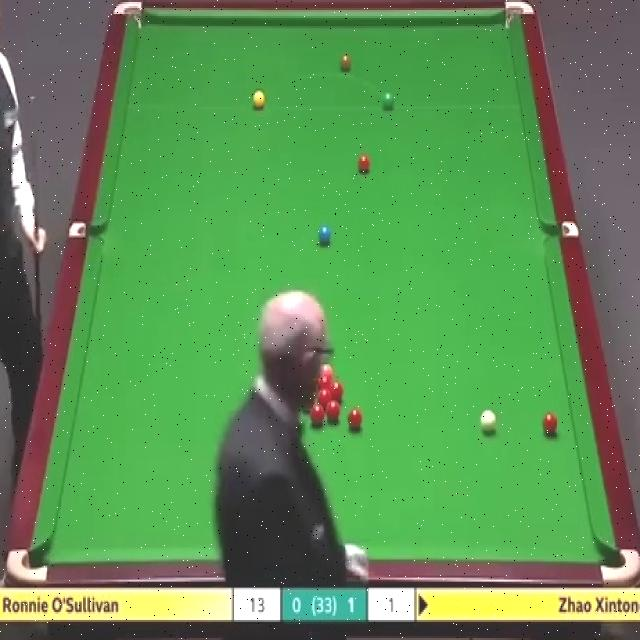blue-ball: (317, 225, 332, 247)
brown-ball: (338, 54, 352, 72)
green-ball: (382, 91, 396, 109)
pink-ball: (316, 358, 331, 372)
red-ball: (346, 408, 364, 433), (541, 412, 557, 438), (356, 153, 372, 176), (326, 399, 340, 422), (311, 399, 325, 421), (332, 381, 344, 402), (320, 372, 331, 388), (318, 390, 332, 401)
white-ball: (480, 408, 497, 432)
yellow-ball: (252, 89, 265, 110)
